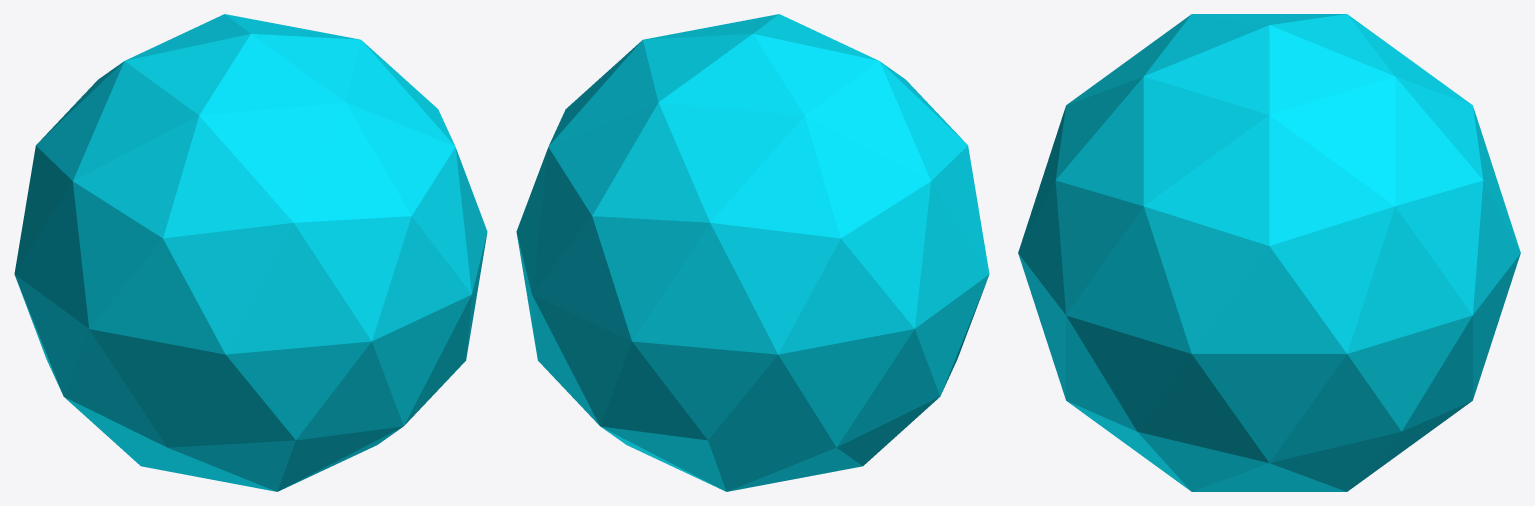
Rendered from TrainingCore_Split.fbx.
The picture shows the model from 3 angles, left to right: view 1: azimuth 30°, elevation 25°; view 2: azimuth 150°, elevation 25°; view 3: azimuth 270°, elevation 25°; orthographic projection. The views are drawn at different scales.
Visible parts, largest first — view 1: EnergyCore_L, EnergyCore_R; view 2: EnergyCore_L, EnergyCore_R; view 3: EnergyCore_R, EnergyCore_L.
Boxes of the visible parts, left/top/right/bottom form: EnergyCore_L: left=14, top=22, right=381, bottom=491; EnergyCore_R: left=207, top=14, right=487, bottom=473; EnergyCore_L: left=622, top=22, right=989, bottom=491; EnergyCore_R: left=516, top=14, right=796, bottom=473; EnergyCore_R: left=1023, top=35, right=1515, bottom=491; EnergyCore_L: left=1018, top=14, right=1520, bottom=284.
Bounding box in the file's own units: 1.9 × 2 × 2.
